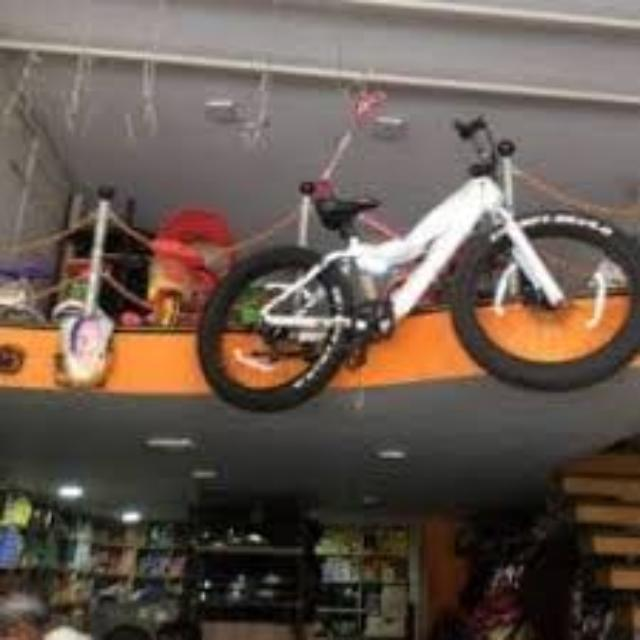obstacle: (211, 98, 640, 433), (639, 98, 640, 433)
